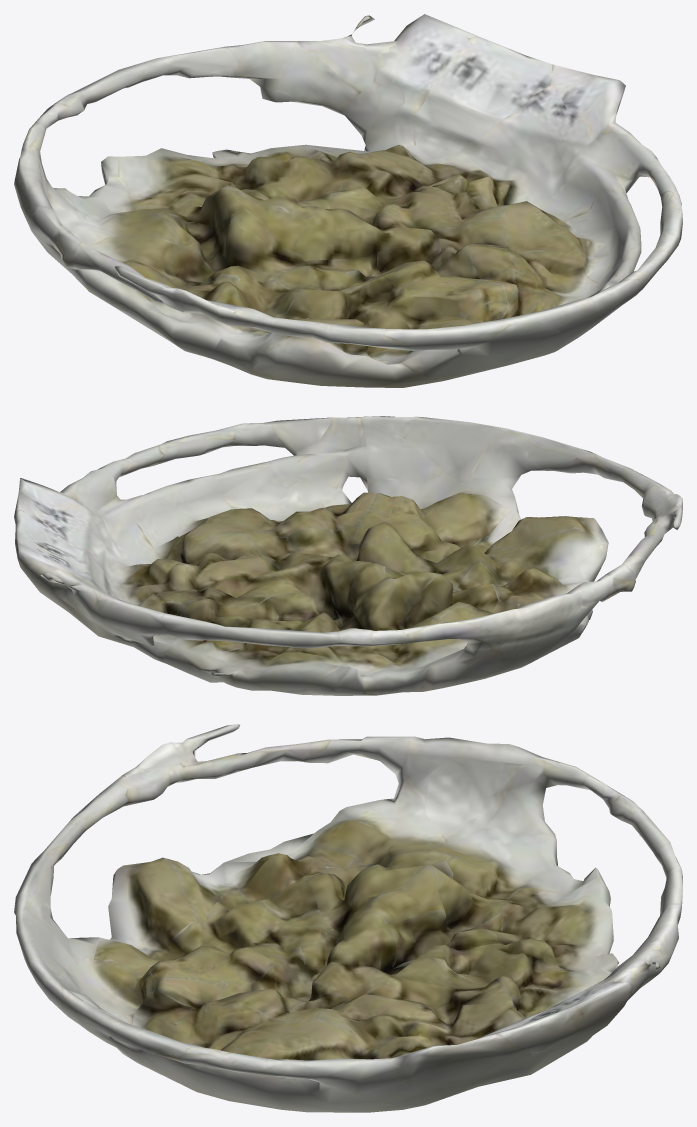
File: hall.glb
3 renders of one model, top to bottom at view 1: azimuth 30°, elevation 25°; view 2: azimuth 150°, elevation 25°; view 3: azimuth 270°, elevation 25°, orthographic. The views are drawn at different scales.
Size of the model in its own units: 0.6804 by 0.1954 by 0.6414.
1 material, 1 textured.
